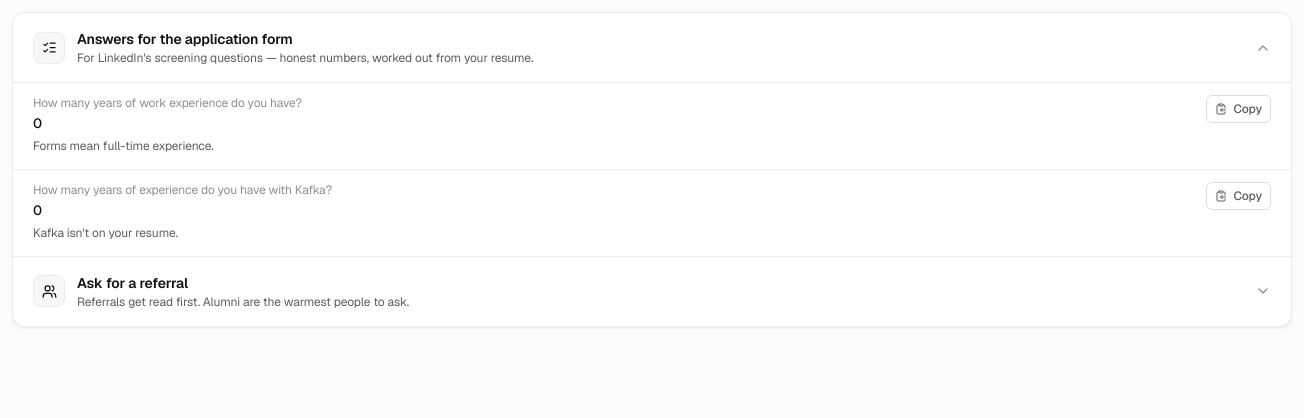
ApplicationKitPanel › shows honest answers with their reasoning, and the referral helper
Expected: the text "Kafka isn't on your resume." is shown, [33,225,178,241]
Expected: the text "Forms mean full-time experience." is shown, [33,138,214,154]
Click the button "Ask for a referral": [49, 291] box [13,256,1291,326]
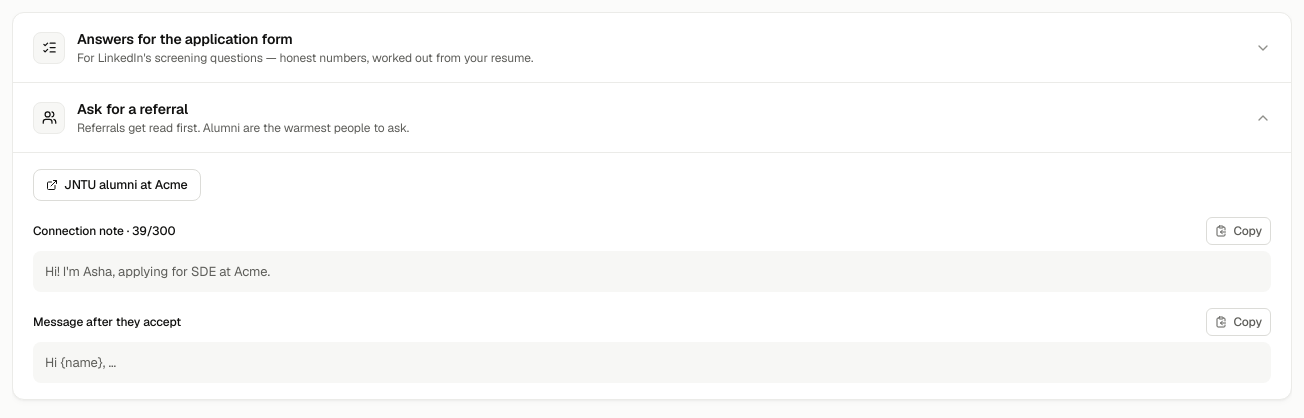
Expected: the text "Connection note · 39/300" is shown, [33,223,176,239]
